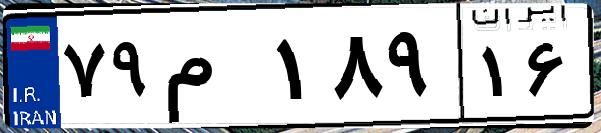1: (270, 28, 330, 110), (475, 38, 525, 113)
6: (525, 38, 570, 115)
7: (57, 26, 110, 100)
8: (330, 28, 385, 110)
9: (385, 28, 445, 110), (110, 28, 158, 98)
م: (158, 20, 270, 120)
